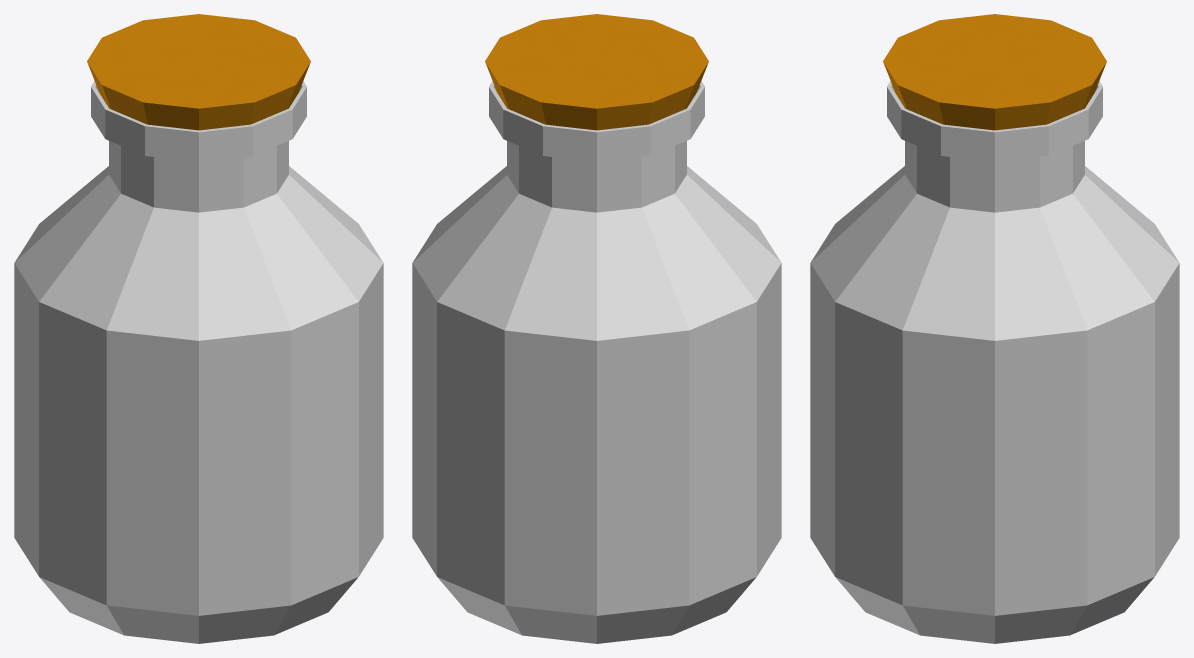
File: Potion_2.fbx
3 views of the same model, side by side, from view 1: azimuth 30°, elevation 25°; view 2: azimuth 150°, elevation 25°; view 3: azimuth 270°, elevation 25° (orthographic).
Visible parts, largest first — view 1: Potion 2; view 2: Potion 2; view 3: Potion 2.
Part boxes in pixels (left/top/right/bottom): Potion 2: left=14, top=14, right=383, bottom=643; Potion 2: left=412, top=14, right=781, bottom=643; Potion 2: left=810, top=14, right=1179, bottom=643.
Bounding box in the file's own units: 8.4 × 13.04 × 8.4.
